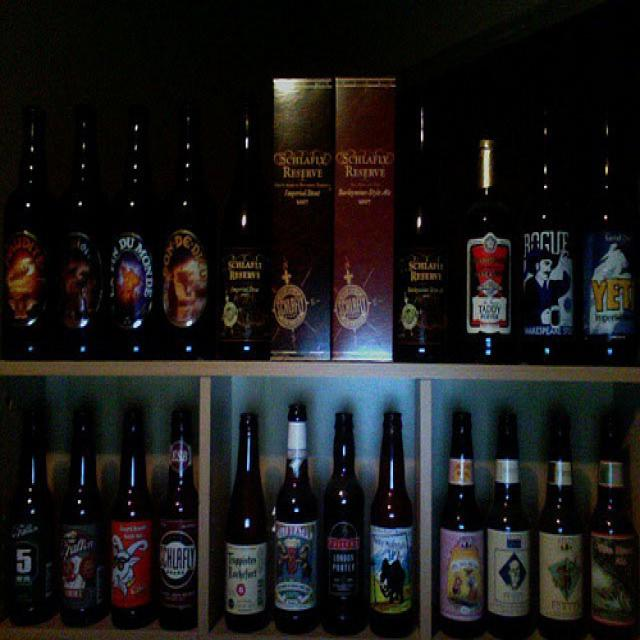Bottle: (49, 397, 116, 640), (528, 100, 588, 365), (590, 93, 640, 390), (317, 375, 380, 609), (358, 360, 414, 619), (62, 78, 114, 353), (10, 377, 63, 640), (103, 389, 161, 629), (480, 394, 539, 622), (399, 86, 446, 365), (222, 98, 275, 344), (528, 387, 584, 611), (472, 94, 515, 383), (586, 382, 633, 640), (433, 372, 481, 623), (155, 378, 205, 600), (126, 104, 163, 379), (237, 381, 277, 621), (286, 390, 328, 618), (175, 100, 211, 361), (12, 103, 48, 337)
